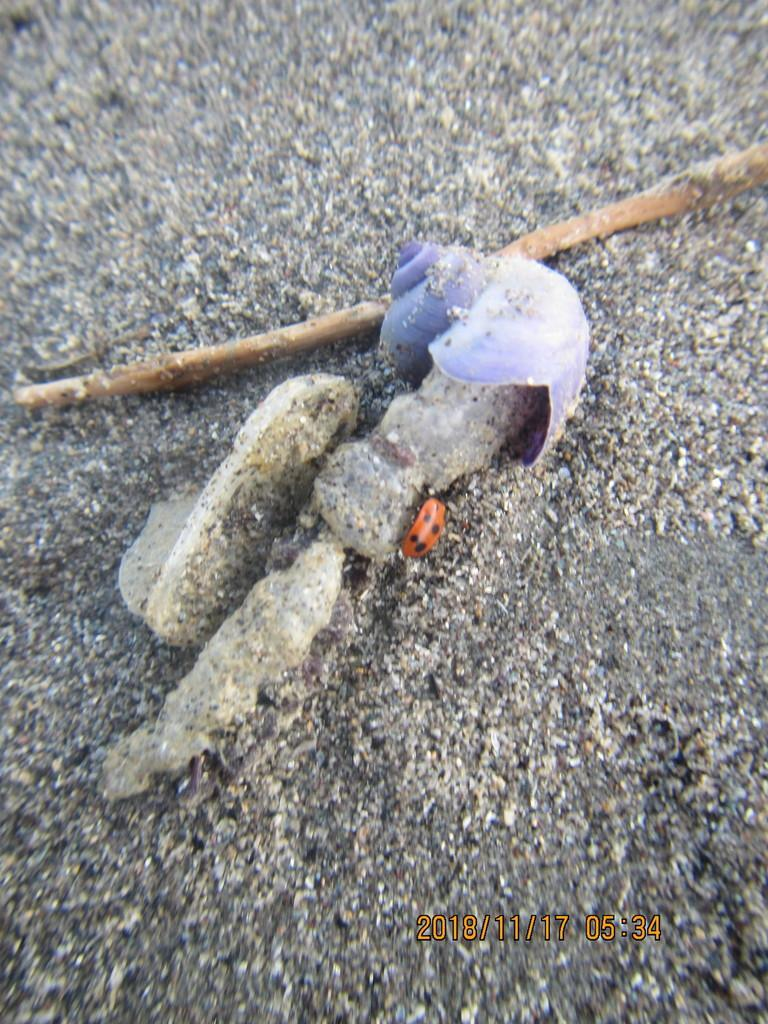ladybug: (393, 479, 453, 562)
